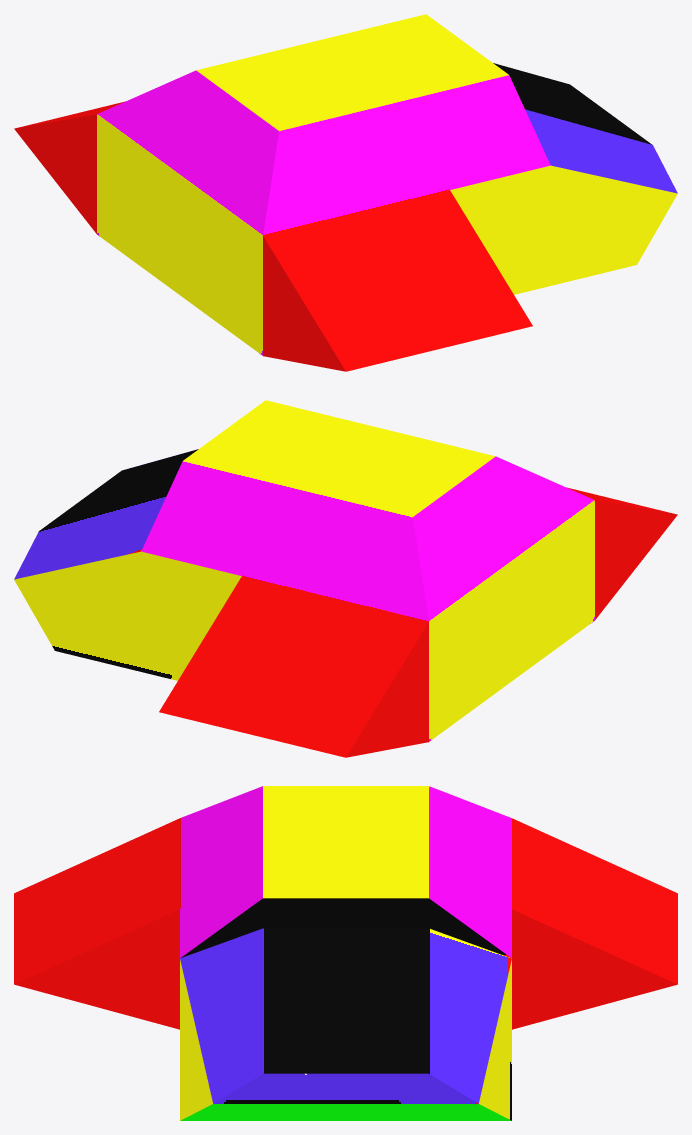
File: ship.gltf
3 renders of one model, top to bottom at view 1: azimuth 30°, elevation 25°; view 2: azimuth 150°, elevation 25°; view 3: azimuth 270°, elevation 25°, orthographic.
Parts seen in each view (by area): view 1: Cube; view 2: Cube; view 3: Cube.
Boxes of the visible parts, x1,y1,x2,y2 form: Cube: [14, 14, 677, 371]; Cube: [14, 400, 677, 757]; Cube: [14, 786, 677, 1120].
Bounding box in the file's own units: 1.5 × 0.6 × 2.
Materials: 1 (1 with a texture image).
